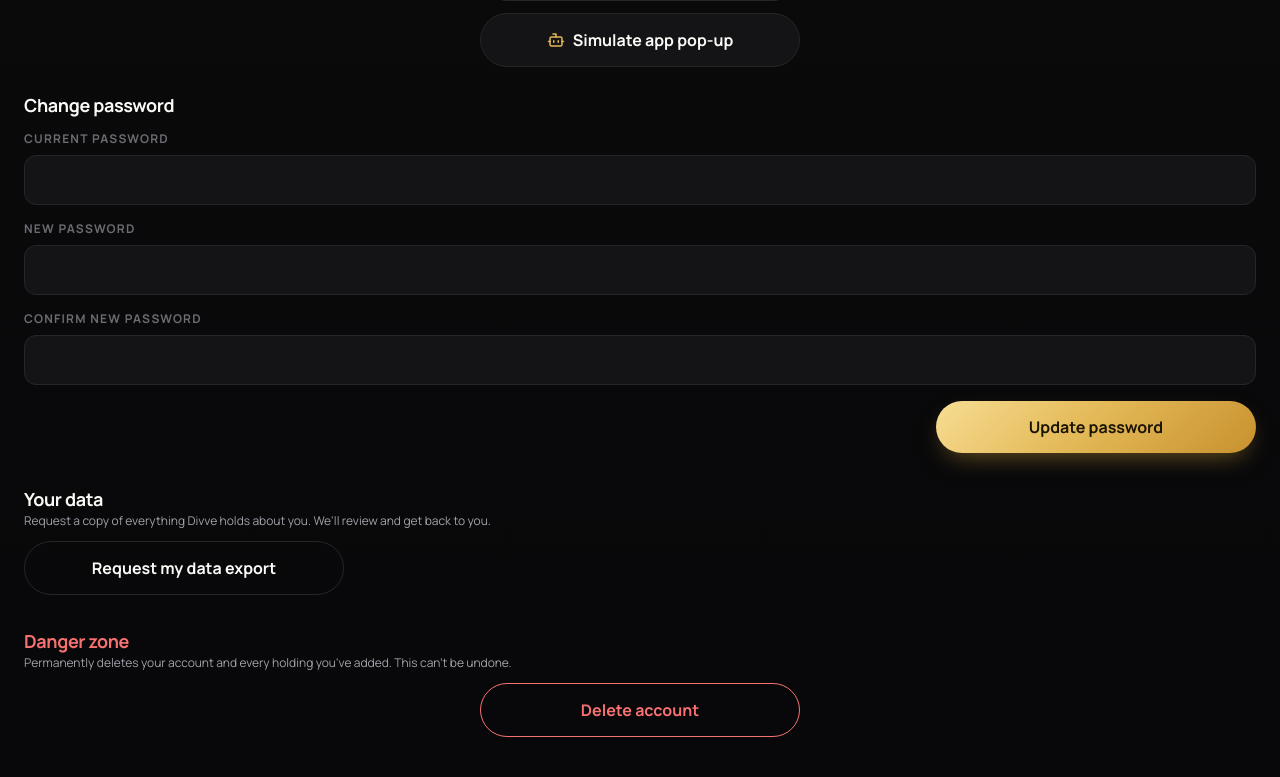
Preferences — request my data export › shows an error if the request fails
(page scrolled)
Click the button with test id "request-data-export-btn" at coordinates (184, 568), box [24, 541, 344, 595]
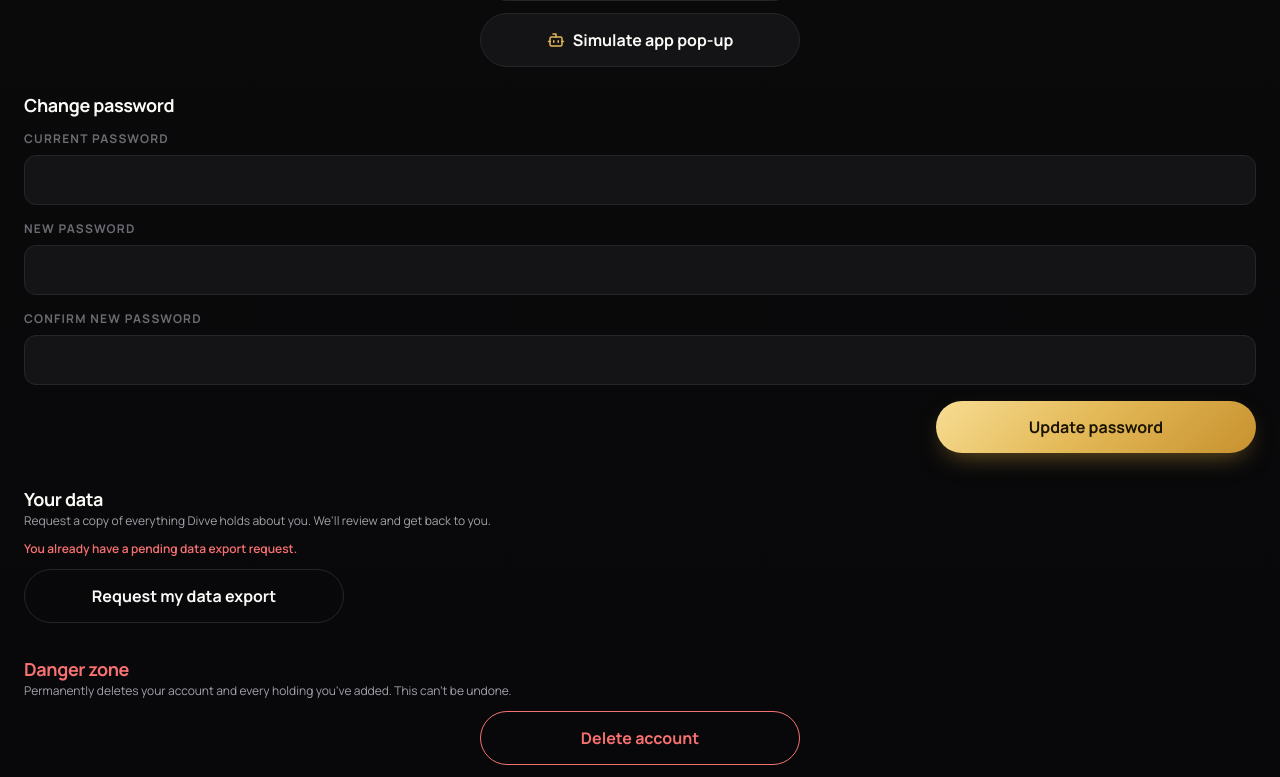
Expected: the text "You already have a pending data export request." is shown, [24, 540, 297, 557]
